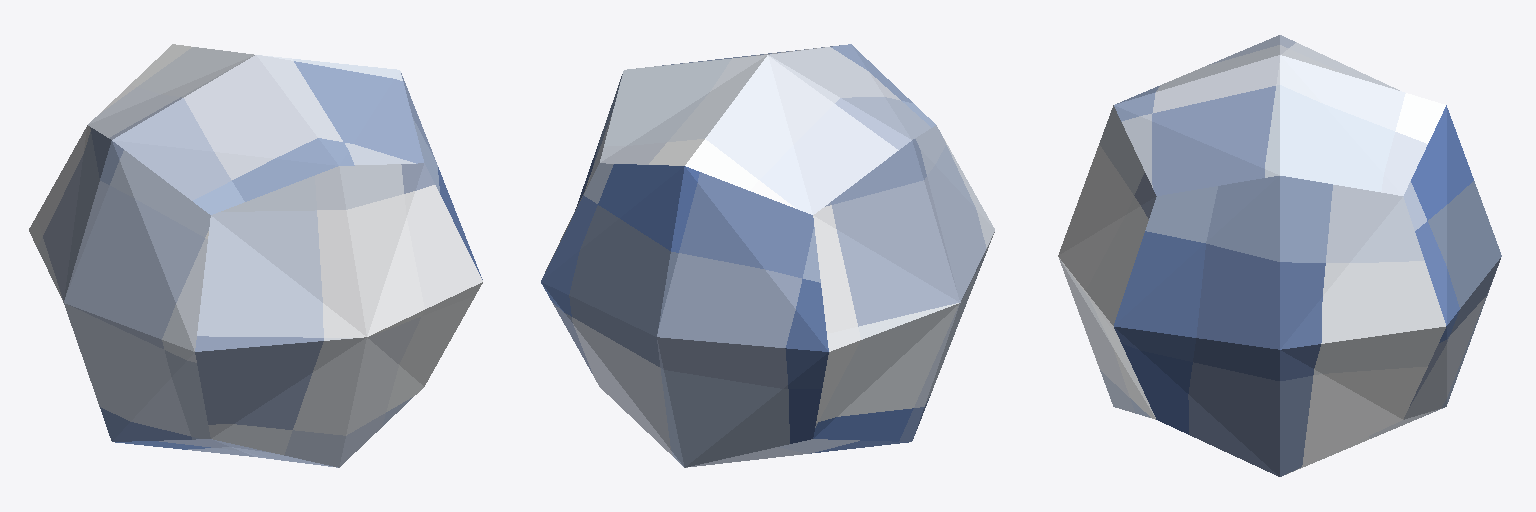
3 views of the same model, side by side, from view 1: azimuth 30°, elevation 25°; view 2: azimuth 150°, elevation 25°; view 3: azimuth 270°, elevation 25° (orthographic).
Visible parts, largest first — view 1: cube1; view 2: cube1; view 3: cube1.
Part boxes in pixels (x1,y1,x2,y2): cube1: (29,44,482,467); cube1: (541,44,994,467); cube1: (1058,35,1501,476).
Size of the model in its own units: 2 by 2 by 2.
Materials: 1 (1 with a texture image).